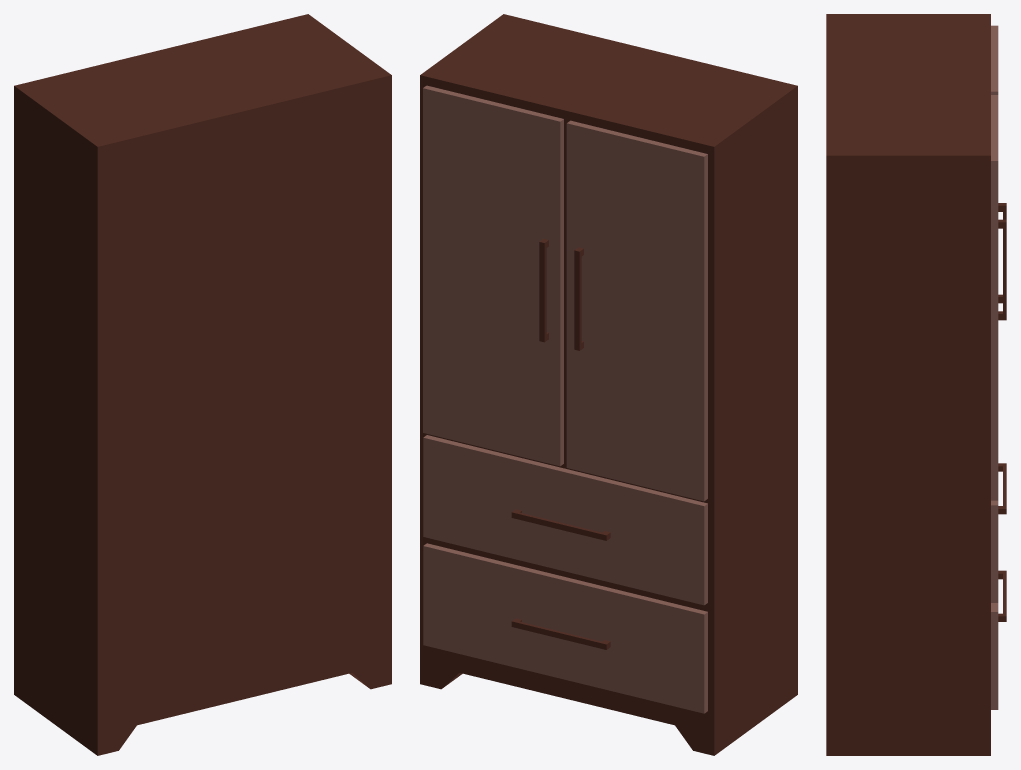
The model's file is Cupb1.obj.
The picture shows the model from 3 angles, left to right: view 1: azimuth 30°, elevation 25°; view 2: azimuth 150°, elevation 25°; view 3: azimuth 270°, elevation 25°; orthographic projection.
Visible parts, largest first — view 1: Box001; view 2: Box001, Box003, Box002, Box005, Box004, Box006, Box007, Box008, Box009; view 3: Box001, Box002, Box005, Box004, Box003, Box006.
Part boxes in pixels (x1=…): Box001: x1=14, y1=14, x2=391, y2=755; Box001: x1=420, y1=14, x2=797, y2=755; Box003: x1=566, y1=120, x2=707, y2=501; Box002: x1=423, y1=85, x2=563, y2=466; Box005: x1=423, y1=543, x2=707, y2=713; Box004: x1=423, y1=435, x2=707, y2=605; Box006: x1=539, y1=239, x2=548, y2=342; Box007: x1=574, y1=247, x2=583, y2=350; Box008: x1=511, y1=509, x2=610, y2=540; Box009: x1=511, y1=618, x2=610, y2=649; Box001: x1=826, y1=14, x2=990, y2=755; Box002: x1=991, y1=95, x2=998, y2=500; Box005: x1=991, y1=603, x2=998, y2=709; Box004: x1=991, y1=500, x2=998, y2=602; Box003: x1=991, y1=25, x2=998, y2=94; Box006: x1=998, y1=219, x2=1006, y2=320.
Bounding box in the file's own units: 428484 × 847644 × 230853.
